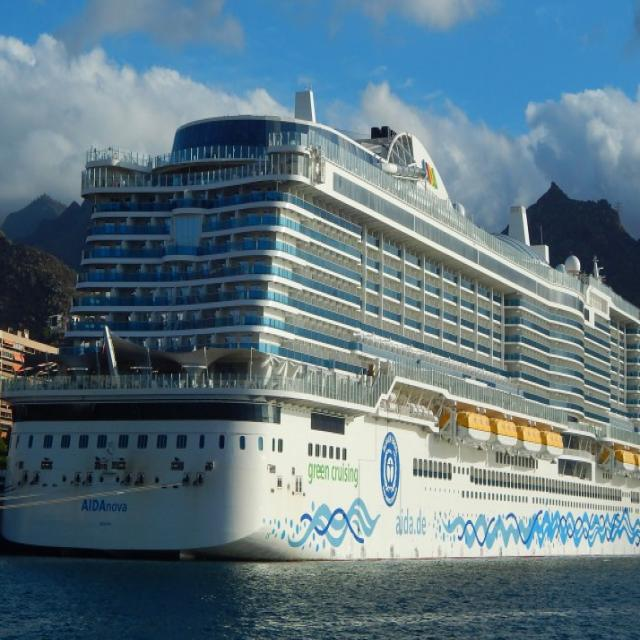cruises: (1, 86, 640, 575)
